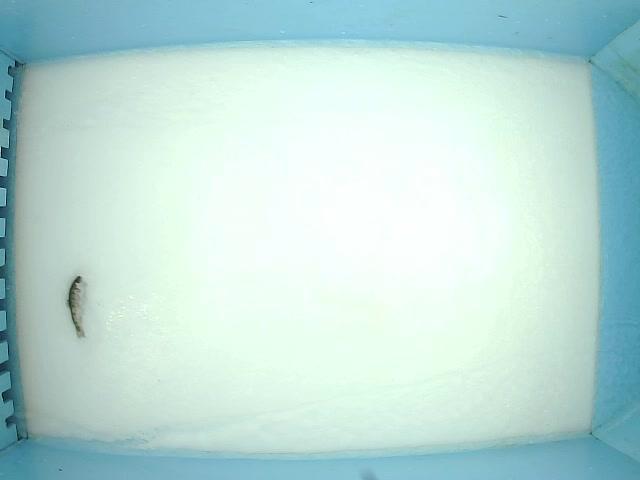fish: (63, 274, 97, 342)
